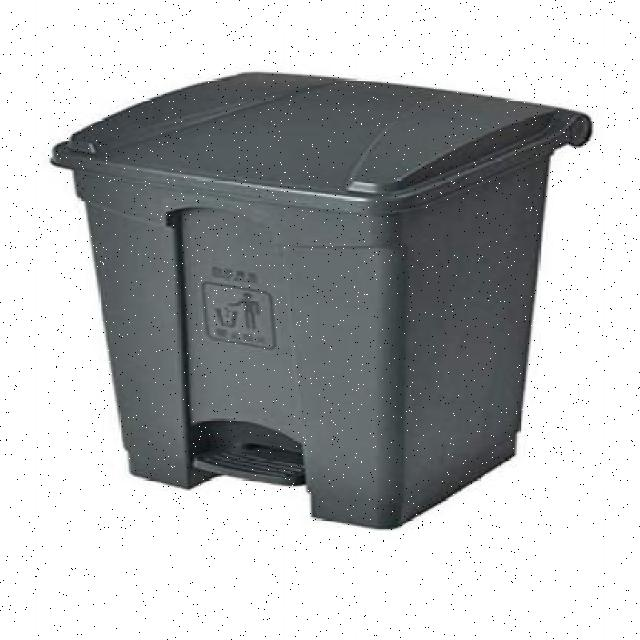garbage container: (26, 58, 609, 544)
